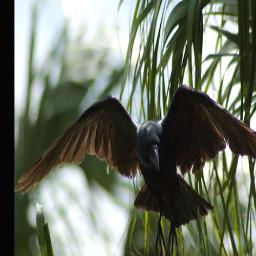Crow: (16, 82, 256, 256)
